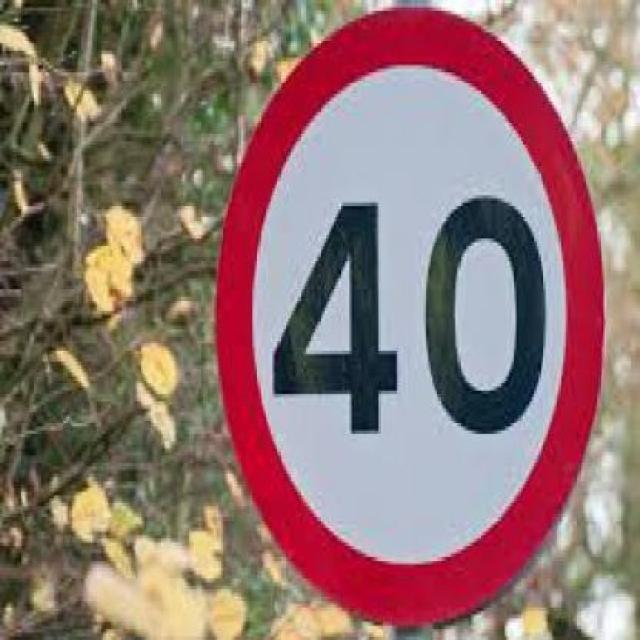forb_speed_over_40: (226, 9, 603, 620)
